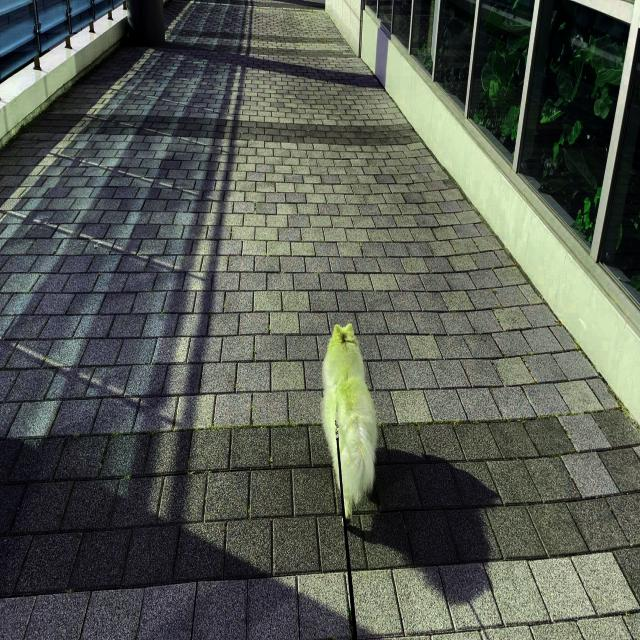Dog: (321, 322, 378, 530)
